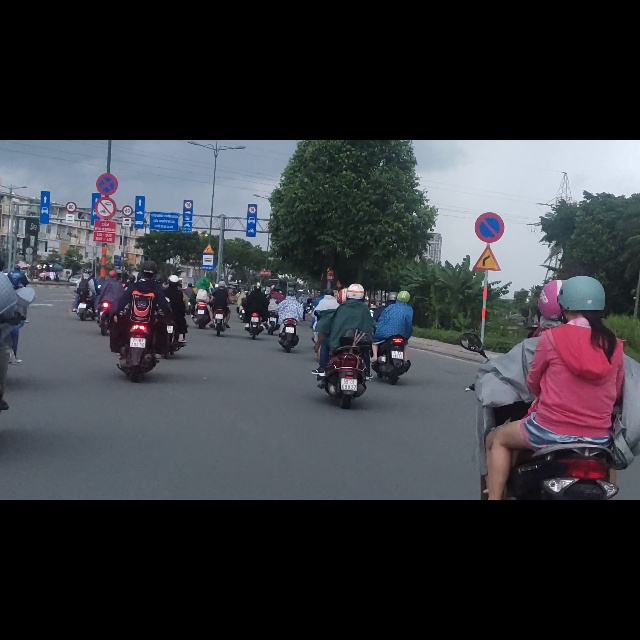bien_chi_dan: (473, 126, 504, 181), (473, 186, 502, 234), (96, 59, 118, 101), (95, 101, 116, 140), (201, 201, 215, 233), (65, 109, 77, 130), (202, 184, 214, 203), (123, 116, 133, 135), (122, 136, 131, 155), (184, 109, 193, 123), (249, 117, 257, 130)
